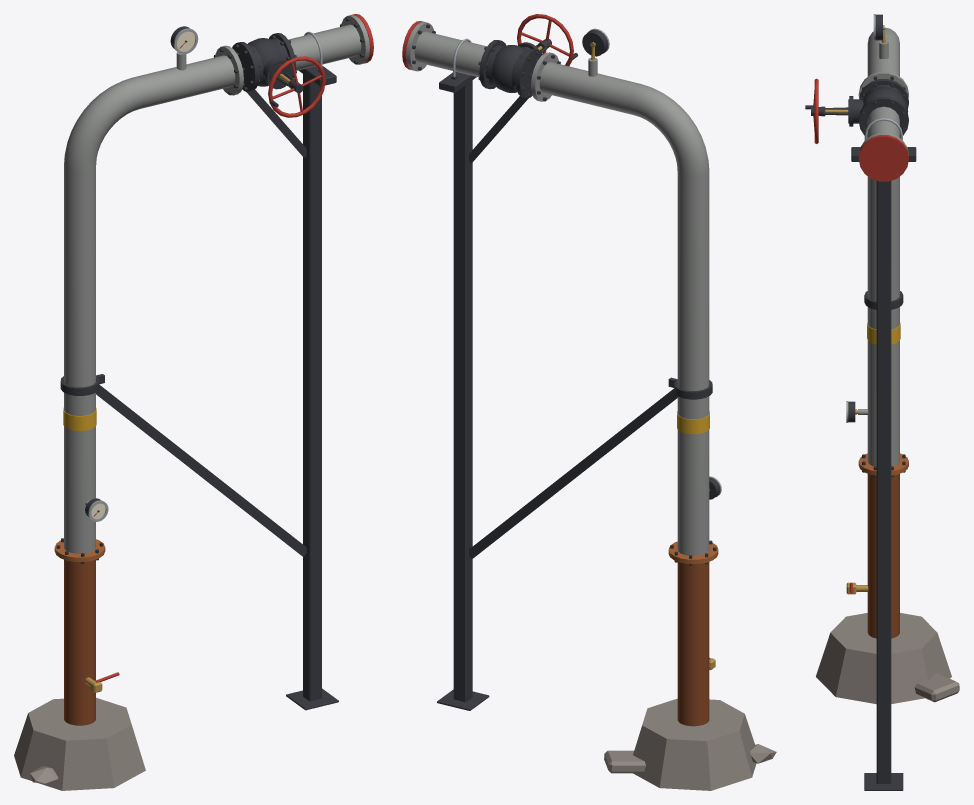
The model's file is deco_pipe_riser.fbx.
The picture shows the model from 3 angles, left to right: view 1: azimuth 30°, elevation 25°; view 2: azimuth 150°, elevation 25°; view 3: azimuth 270°, elevation 25°; orthographic projection.
Visible parts, largest first — view 1: Pipe_Riser_Pipe, Pipe_Riser_Support, Pipe_Riser_Collar, Pipe_Riser_Fittings, Pipe_Riser_ValveWheel; view 2: Pipe_Riser_Pipe, Pipe_Riser_Support, Pipe_Riser_Collar, Pipe_Riser_Fittings, Pipe_Riser_ValveWheel; view 3: Pipe_Riser_Pipe, Pipe_Riser_Support, Pipe_Riser_Collar, Pipe_Riser_Fittings, Pipe_Riser_ValveWheel.
Boxes of the visible parts, x1,y1,x2,y2 form: Pipe_Riser_Pipe: (54, 14, 373, 725); Pipe_Riser_Support: (60, 66, 338, 710); Pipe_Riser_Collar: (14, 697, 145, 790); Pipe_Riser_Fittings: (56, 17, 363, 692); Pipe_Riser_ValveWheel: (268, 56, 325, 117); Pipe_Riser_Pipe: (402, 21, 718, 726); Pipe_Riser_Support: (437, 72, 712, 710); Pipe_Riser_Collar: (604, 698, 776, 790); Pipe_Riser_Fittings: (412, 24, 721, 670); Pipe_Riser_ValveWheel: (517, 14, 577, 66); Pipe_Riser_Pipe: (821, 27, 908, 638); Pipe_Riser_Support: (851, 147, 916, 790); Pipe_Riser_Collar: (816, 613, 959, 704); Pipe_Riser_Fittings: (846, 14, 905, 594); Pipe_Riser_ValveWheel: (805, 78, 821, 143).
Size of the model in its own units: 245 by 483 by 95.28.
